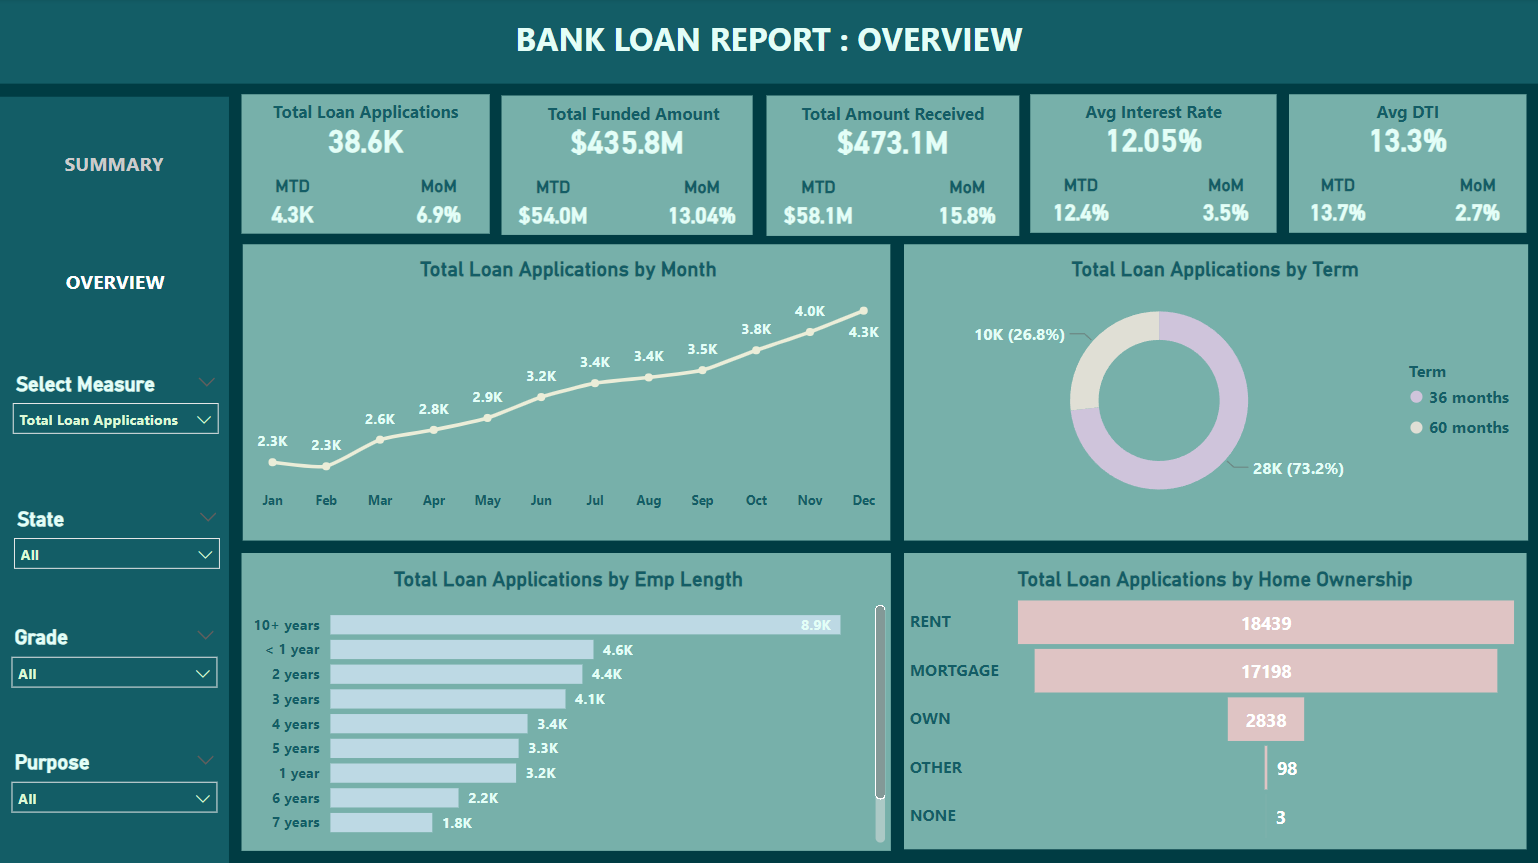

This screenshot's page, from the dashboard's own definition file:
{"tool":"powerbi","page":{"name":"Page 1","canvas":[1280,720],"ordinal":0},"visuals":[{"type":"shape","box":[0,0,1280.3,71.4],"z":0},{"type":"shape","box":[1073.8,78.6,195.3,116.3],"z":0,"group":"g5"},{"type":"shape","box":[201.8,79.8,195.3,116.3],"z":0,"group":"g2"},{"type":"shape","box":[637.3,79.9,195.3,117.5],"z":0,"group":"g4"},{"type":"shape","box":[856.4,79.9,195.3,116.3],"z":0,"group":"g6"},{"type":"shape","box":[417.4,81.1,195.3,116.3],"z":0,"group":"g1"},{"type":"group","id":"g1","title":"Group 2","box":[417.4,81.1,195.3,116.3],"z":14,"group":"g3"},{"type":"shape","box":[0,78.6,191.7,642.6],"z":1000},{"type":"card","fields":{"Values":["financial_loan.Avg Dti"]},"box":[1073.8,93.7,195.3,45.3],"z":1000,"group":"g5"},{"type":"card","fields":{"Values":["financial_loan.Total Loan Applications"]},"box":[201.8,94.9,195.3,45.3],"z":1000,"group":"g2"},{"type":"card","fields":{"Values":["financial_loan.AVG interest rate"]},"box":[856.4,95,195.3,45.3],"z":1000,"group":"g6"},{"type":"card","fields":{"Values":["financial_loan.Total Amount Received"]},"box":[637.3,95.2,195.3,45.8],"z":1000,"group":"g4"},{"type":"card","fields":{"Values":["financial_loan.Total Funded Amount"]},"box":[417.4,96.2,195.3,45.3],"z":1000,"group":"g1"},{"type":"textbox","box":[0,10.5,1280.2,51.2],"z":2000},{"type":"textbox","box":[1073.8,78.6,195.3,29.1],"z":2000,"group":"g5"},{"type":"textbox","box":[201.8,79.8,195.3,29.1],"z":2000,"group":"g2"},{"type":"textbox","box":[637.3,79.9,195.3,29.4],"z":2000,"group":"g4"},{"type":"textbox","box":[856.4,79.9,195.3,29.1],"z":2000,"group":"g6"},{"type":"textbox","box":[421.9,81.1,195.3,29.1],"z":2000,"group":"g3"},{"type":"group","id":"g2","title":"Group 1","box":[201.8,79.8,195.3,116.3],"z":3000},{"type":"card","title":"MTD","fields":{"Values":["financial_loan.MTD Avg DTI Rate"]},"box":[1073.8,146,80.2,48.8],"z":3000,"group":"g5"},{"type":"card","title":"MTD","fields":{"Values":["financial_loan.MTD Total Applications"]},"box":[201.8,147.2,80.2,48.8],"z":3000,"group":"g2"},{"type":"card","title":"MTD","fields":{"Values":["financial_loan.MTD Avg Interest Rate"]},"box":[856.4,147.3,80.2,48.8],"z":3000,"group":"g6"},{"type":"card","title":"MTD","fields":{"Values":["financial_loan.MTD Amount Received"]},"box":[637.3,148.1,80.2,49.4],"z":3000,"group":"g4"},{"type":"card","title":"MTD","fields":{"Values":["financial_loan.MTD Total Fund"]},"box":[417.4,148.5,80.2,48.8],"z":3000,"group":"g1"},{"type":"group","id":"g3","title":"Group 1","box":[417.4,81.1,199.9,116.3],"z":4000},{"type":"card","title":"MoM","fields":{"Values":["financial_loan.MOM Avg DTI Rate"]},"box":[1188.9,146,80.2,48.8],"z":4000,"group":"g5"},{"type":"card","title":"MoM","fields":{"Values":["financial_loan.MOM Loan Applications"]},"box":[316.9,147.2,80.2,48.8],"z":4000,"group":"g2"},{"type":"card","title":"MoM","fields":{"Values":["financial_loan.MOM Avg Interest Rate"]},"box":[971.5,147.3,80.2,48.8],"z":4000,"group":"g6"},{"type":"card","title":"MoM","fields":{"Values":["financial_loan.MOM Amount Received"]},"box":[752.4,148.1,80.2,49.4],"z":4000,"group":"g4"},{"type":"card","title":"MoM","fields":{"Values":["financial_loan.MOM Loan Funded"]},"box":[532.5,148.5,80.2,48.8],"z":4000,"group":"g1"},{"type":"group","id":"g4","title":"Group 1","box":[637.3,79.9,195.4,118],"z":5000},{"type":"group","id":"g5","title":"Group 1","box":[1073.8,78.6,195.4,116.7],"z":7000},{"type":"group","id":"g6","title":"Group 1","box":[856.4,79.9,195.4,116.7],"z":7001},{"type":"shape","box":[201.5,206.9,515.1,259.7],"z":7002},{"type":"shape","box":[742.5,206.9,527,259.7],"z":7003}]}

Visuals, with their boxes in screenshot pixels (x1, y1, x2, y2), scaled from the page's 1280x720 canvas onto the 1538x863 screenshot:
shape: 0:0:1537:86
shape: 1290:94:1525:234
shape: 242:96:477:235
shape: 766:96:1000:237
shape: 1029:96:1264:235
shape: 502:97:736:237
"Group 2" group: 502:97:736:237
shape: 0:94:230:862
card - financial_loan.Avg Dti: 1290:112:1525:167
card - financial_loan.Total Loan Applications: 242:114:477:168
card - financial_loan.AVG interest rate: 1029:114:1264:168
card - financial_loan.Total Amount Received: 766:114:1000:169
card - financial_loan.Total Funded Amount: 502:115:736:170
textbox: 0:13:1537:74
textbox: 1290:94:1525:129
textbox: 242:96:477:131
textbox: 766:96:1000:131
textbox: 1029:96:1264:131
textbox: 507:97:742:132
"Group 1" group: 242:96:477:235
"MTD" card: 1290:175:1387:233
"MTD" card: 242:176:339:235
"MTD" card: 1029:177:1125:235
"MTD" card: 766:178:862:237
"MTD" card: 502:178:598:236
"Group 1" group: 502:97:742:237
"MoM" card: 1429:175:1525:233
"MoM" card: 381:176:477:235
"MoM" card: 1167:177:1264:235
"MoM" card: 904:178:1000:237
"MoM" card: 640:178:736:236
"Group 1" group: 766:96:1001:237
"Group 1" group: 1290:94:1525:234
"Group 1" group: 1029:96:1264:236
shape: 242:248:861:559
shape: 892:248:1525:559
